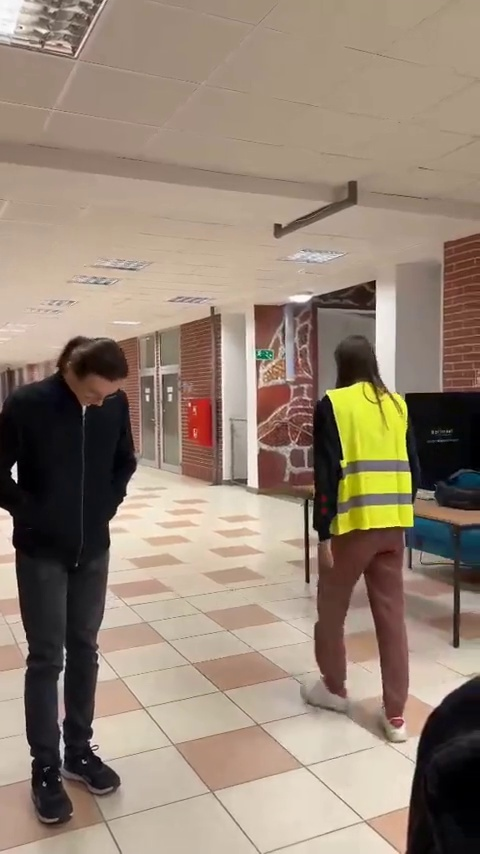no vest: (2, 328, 156, 827)
vest: (289, 344, 441, 742)
